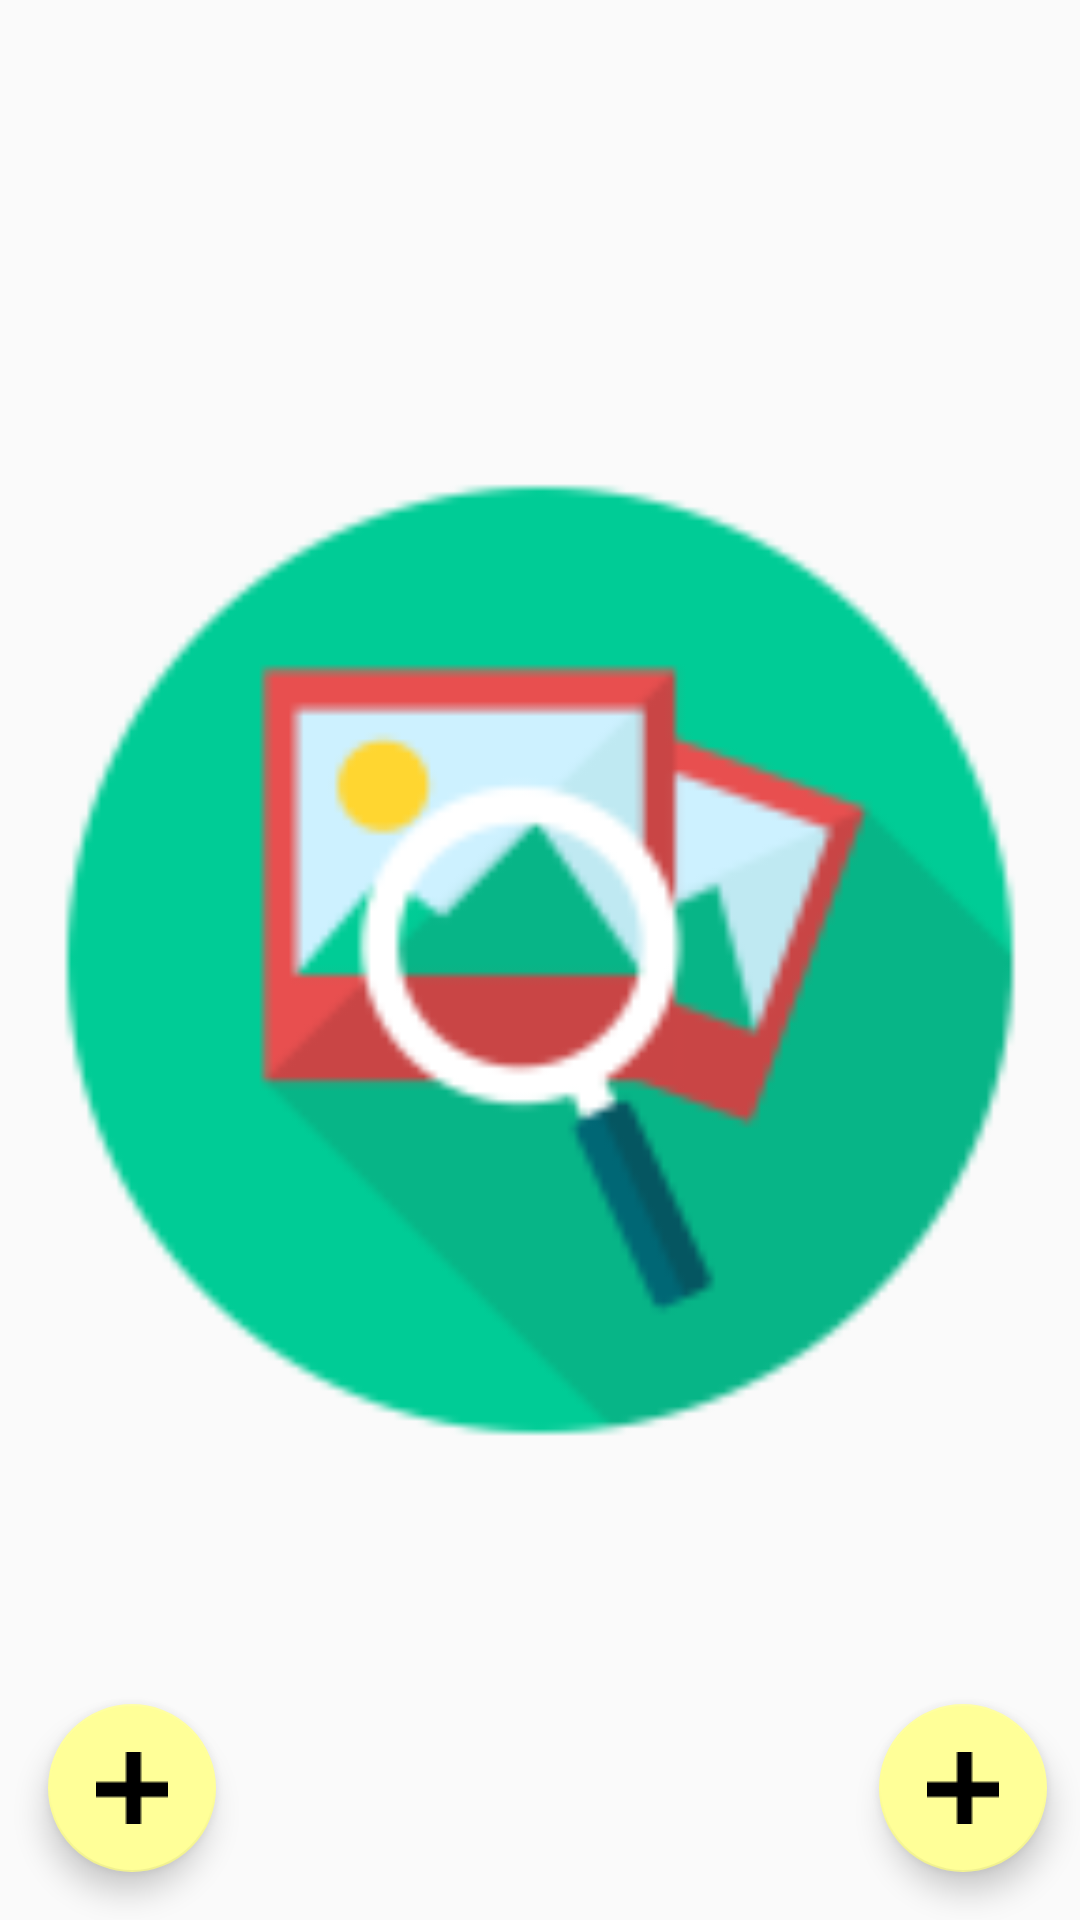

Icons on this 1080*1920 Android screen, each with its box as (x1, y1, x2, y2):
plus: (48, 1704, 216, 1872), (879, 1704, 1047, 1872)
